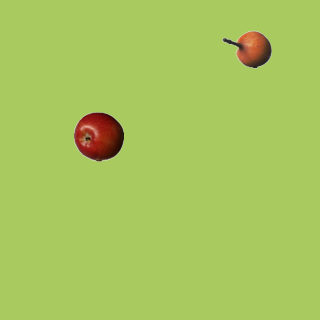Apple Braeburn: (73, 111, 123, 161)
Granadilla: (221, 24, 271, 74)
